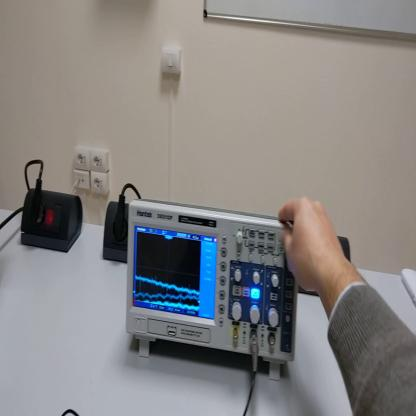hand: (279, 197, 343, 296)
oscilloscope: (125, 200, 297, 382)
socket: (23, 188, 84, 255), (106, 202, 130, 263)
